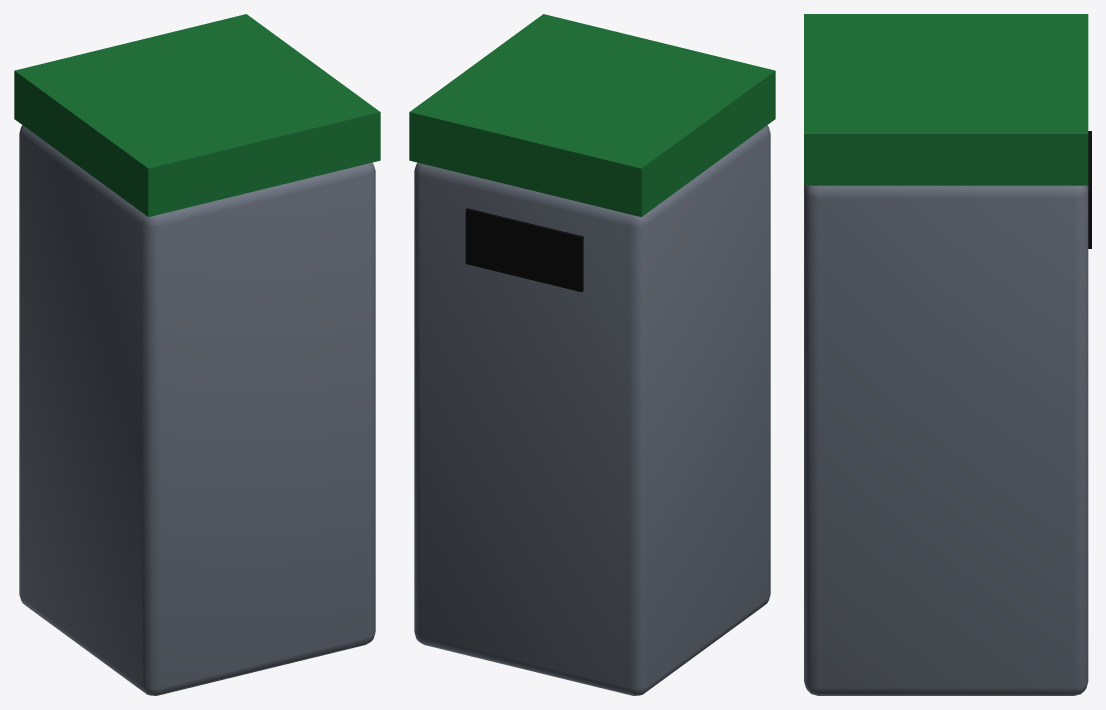
The model's file is office.waste.bin.glb.
3 views of the same model, side by side, from view 1: azimuth 30°, elevation 25°; view 2: azimuth 150°, elevation 25°; view 3: azimuth 270°, elevation 25° (orthographic). The views are drawn at different scales.
Visible parts, largest first — view 1: main__steel_painted, main__plastic_green; view 2: main__steel_painted, main__plastic_green, main__plastic_black; view 3: main__steel_painted, main__plastic_green, main__plastic_black.
Part boxes in pixels (x1,y1,x2,y2): main__steel_painted: (19,125,375,695); main__plastic_green: (14,14,380,216); main__steel_painted: (414,125,770,695); main__plastic_green: (409,14,775,216); main__plastic_black: (465,208,583,292); main__steel_painted: (804,185,1088,695); main__plastic_green: (804,14,1088,185); main__plastic_black: (1088,131,1091,248).
Size of the model in its own units: 0.4 by 0.88 by 0.405.
